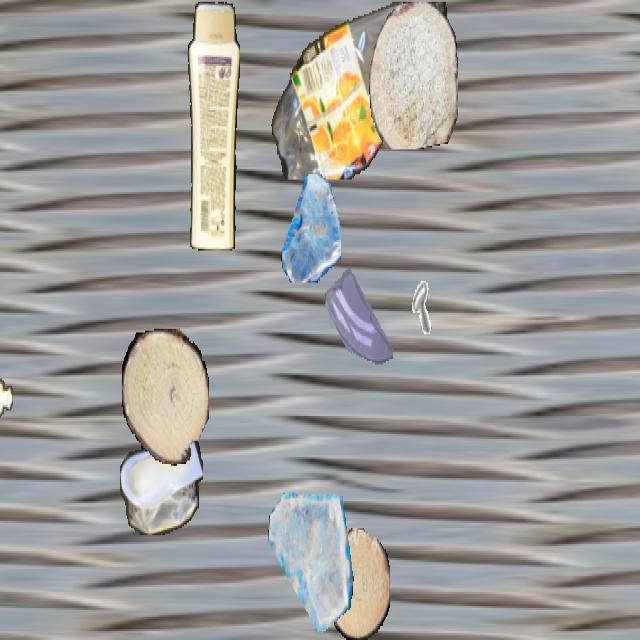glass: (267, 486, 353, 638), (325, 256, 393, 377), (280, 174, 340, 281)
metal: (387, 272, 433, 354)
plastic: (270, 2, 452, 180), (185, 2, 239, 250), (120, 427, 202, 533), (0, 324, 12, 462)
wood: (369, 2, 457, 148), (122, 329, 208, 464), (328, 528, 390, 638)
